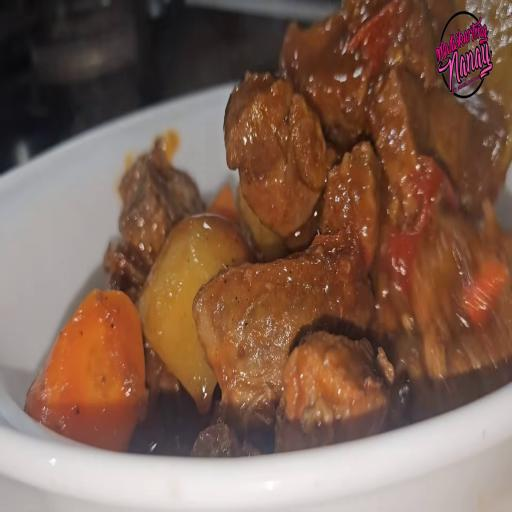pork caldereta: (31, 104, 512, 440)
